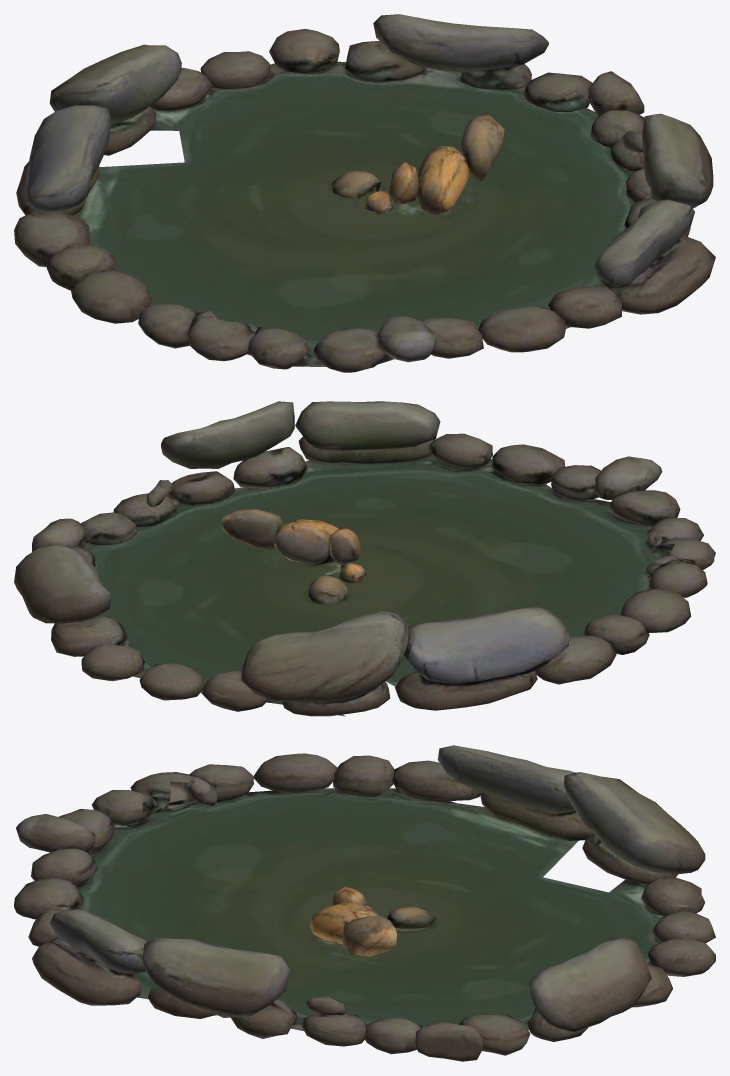
File: jd_poca.glb
3 views of the same model, one above another, from view 1: azimuth 30°, elevation 25°; view 2: azimuth 150°, elevation 25°; view 3: azimuth 270°, elevation 25° (orthographic). The views are drawn at different scales.
Parts seen in each view (by area): view 1: mesh_node.003; view 2: mesh_node.003; view 3: mesh_node.003.
Part boxes in pixels (left/top/right/bottom): mesh_node.003: left=14, top=14, right=715, bottom=372; mesh_node.003: left=14, top=401, right=715, bottom=716; mesh_node.003: left=14, top=745, right=715, bottom=1061.
Size of the model in its own units: 0.3691 by 0.0537 by 0.3843.
Materials: 1 (1 with a texture image).
